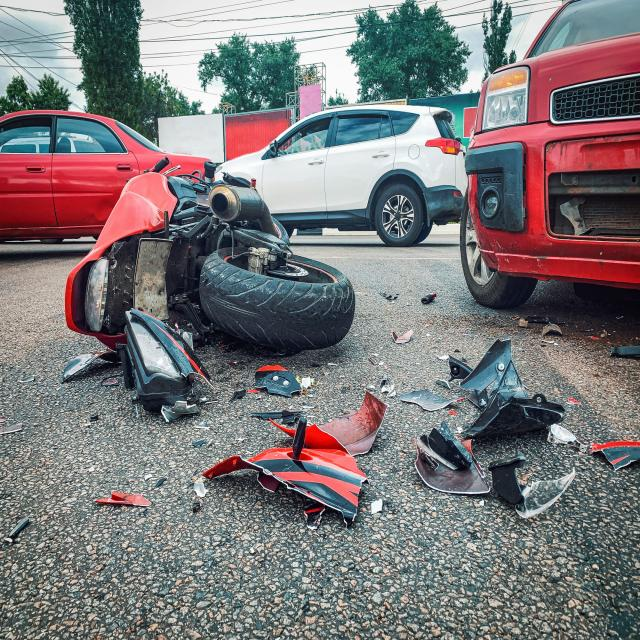Accident: (64, 160, 357, 418)
